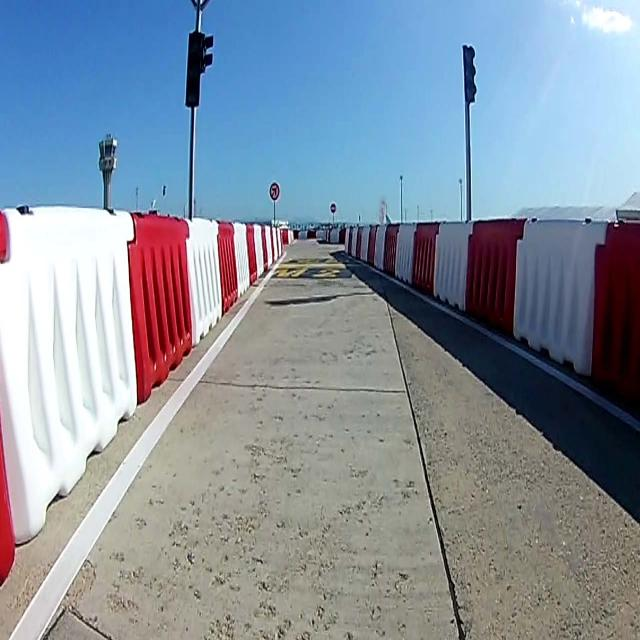soladonulmez: (270, 182, 280, 201)
